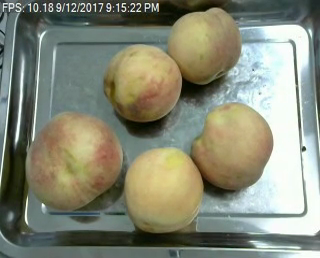Peach: (27, 109, 123, 212), (191, 101, 274, 190), (124, 146, 203, 232), (103, 42, 180, 123), (167, 7, 242, 85)
